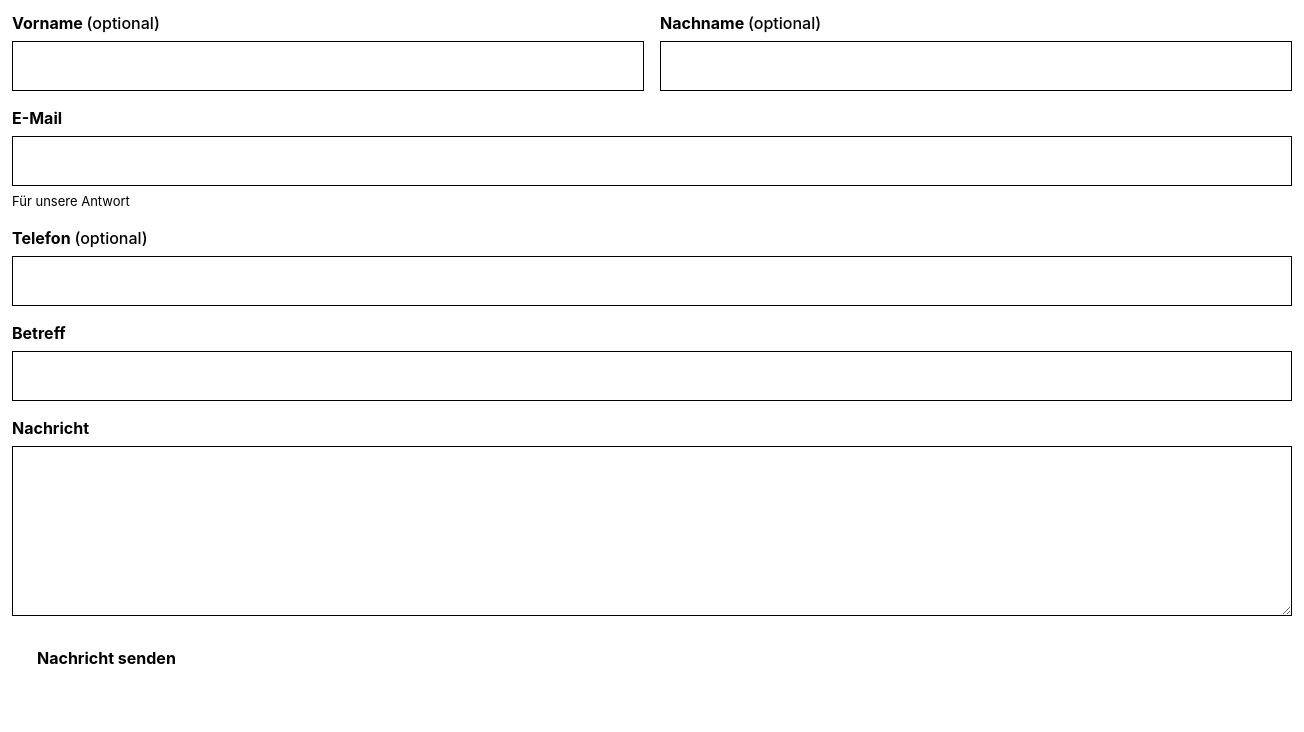
contact form with a preset (#445) › sends the message and shows the shop's success text
Step 1. Type "gast@example.de" into the field named "email" → (652, 161), box [12,136,1292,186]
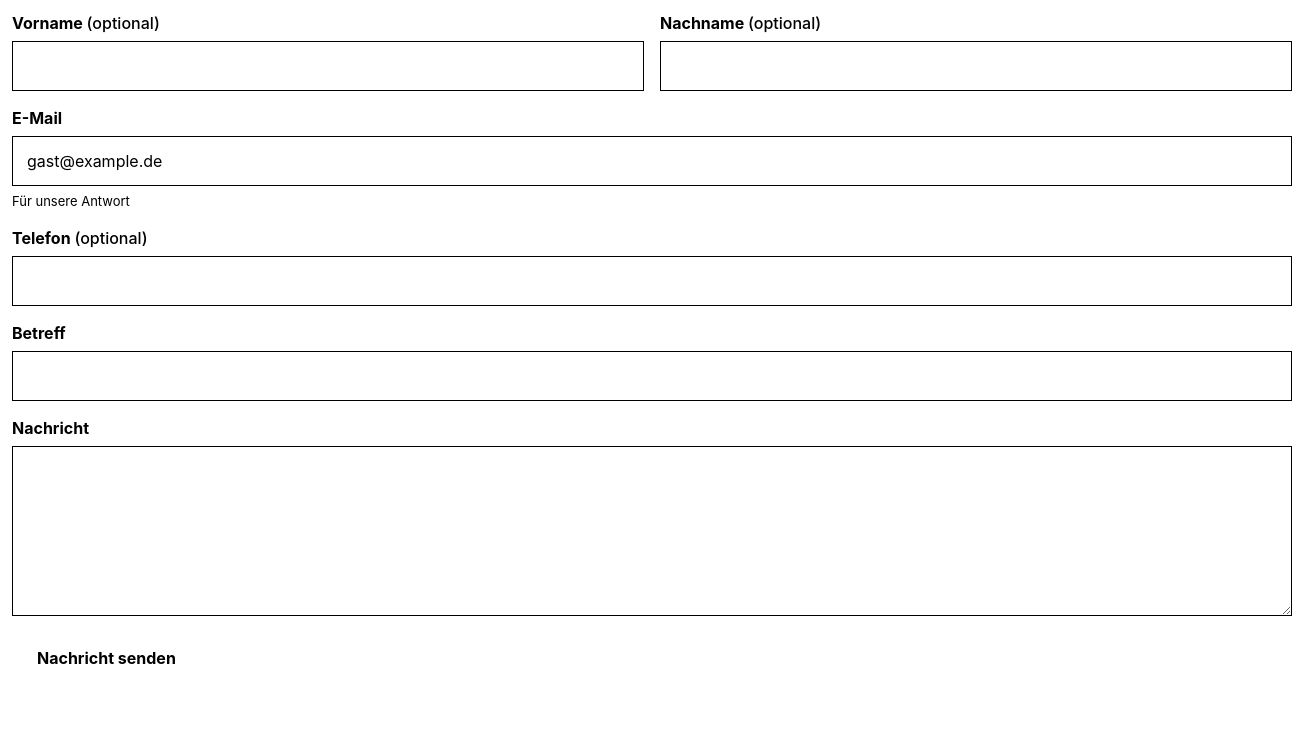
Step 2. Type "Allergene" into the field named "subject" → (652, 376), box [12,351,1292,401]
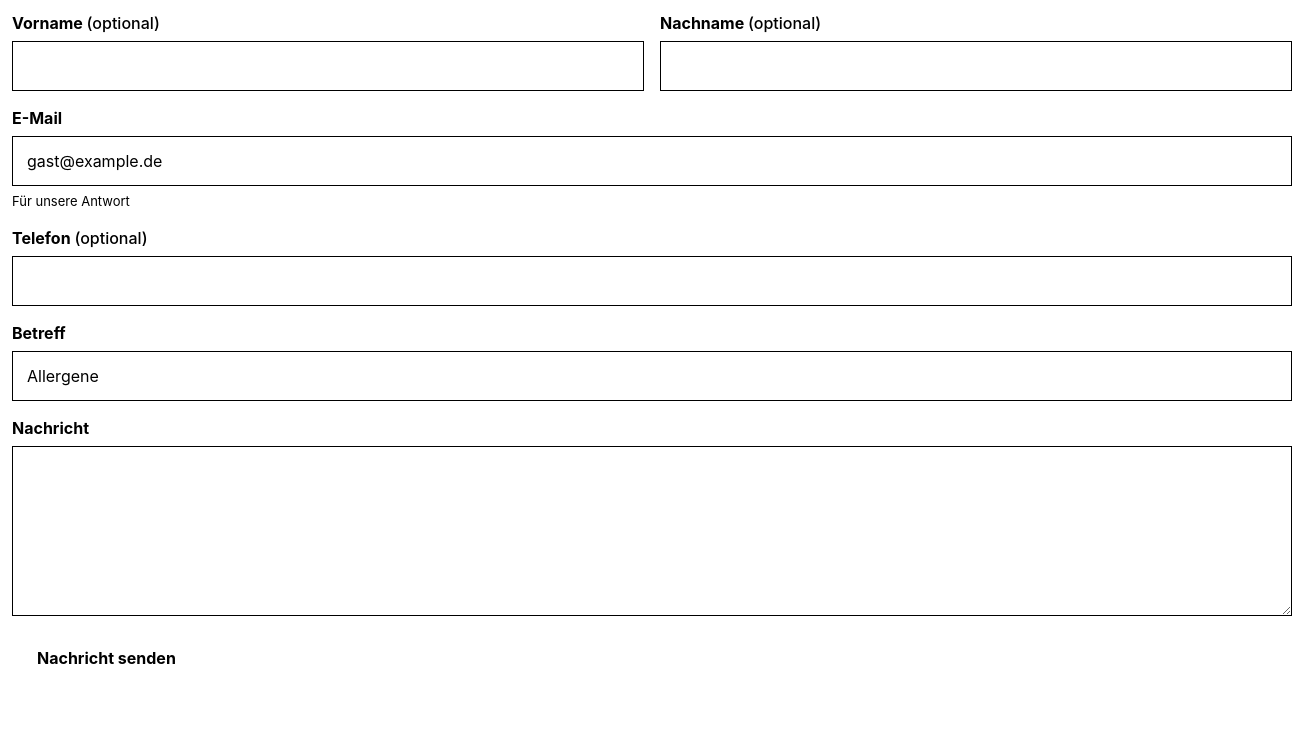
Step 3. Type "Ist der Teig ohne Ei gemacht?" into the text box named "comment" → (652, 531), box [12,446,1292,616]
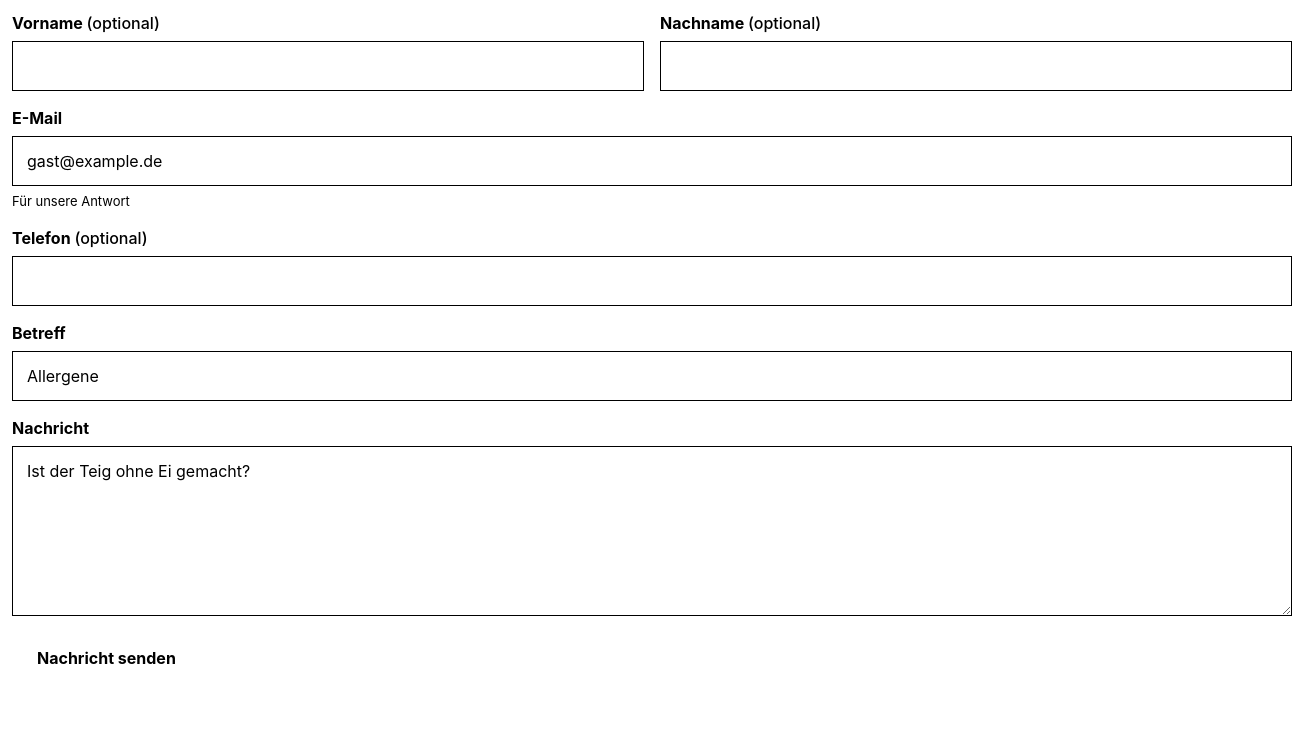
Step 4. Submit the form
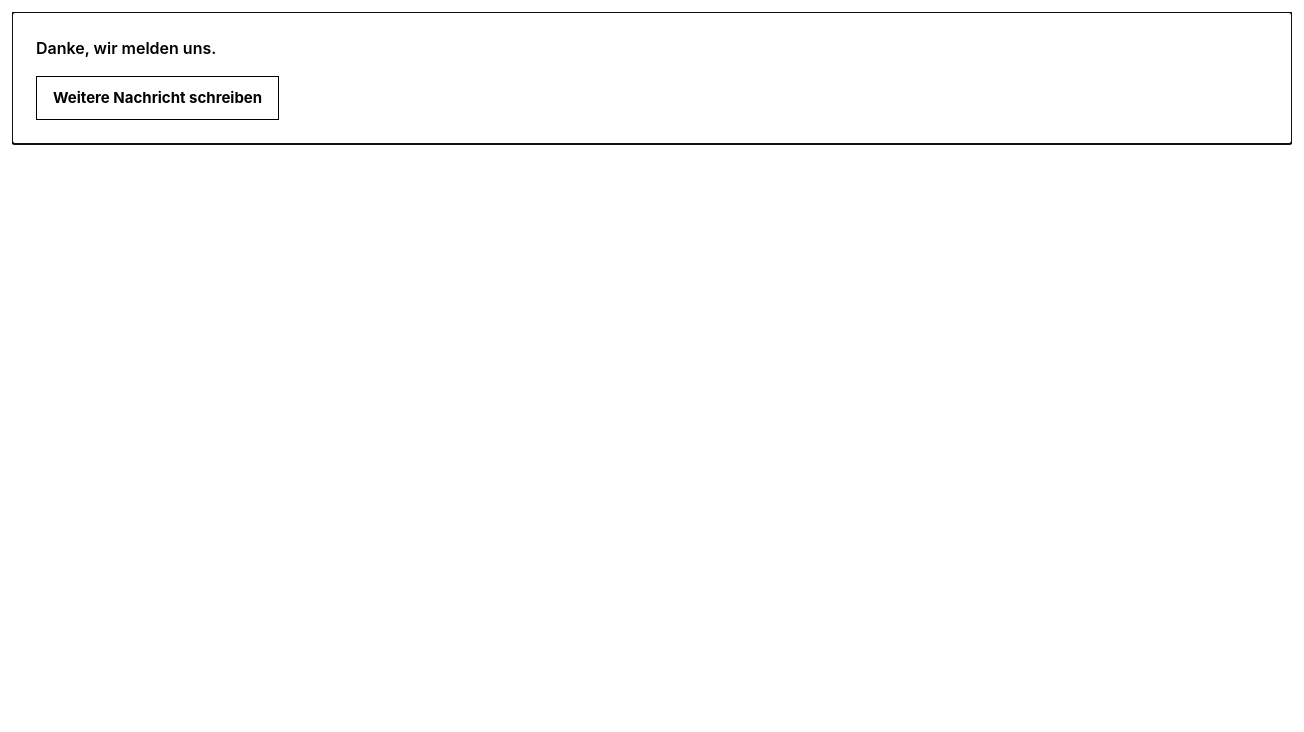
expect the message "Danke, wir melden uns. Weitere Nachricht schreiben" is shown: met, box [36,38,279,120]
